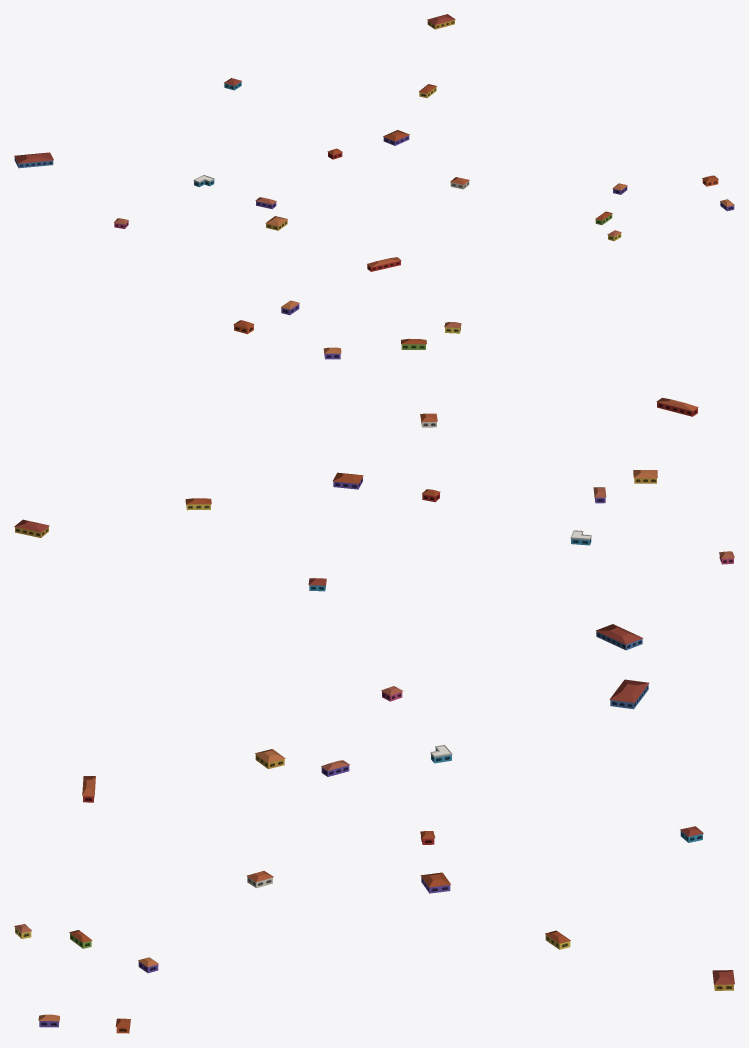
The model's file is msb_oranjestad_m10_2.glb.
The picture shows the model from 3 angles, top to bottom: view 1: azimuth 30°, elevation 25°; view 2: azimuth 150°, elevation 25°; view 3: azimuth 270°, elevation 25°; orthographic projection. The views are drawn at different scales.
Visible parts, largest first — view 1: msb_oranjestad_m10_2_lod0; view 2: msb_oranjestad_m10_2_lod0; view 3: msb_oranjestad_m10_2_lod0.
Part boxes in pixels (x1,y1,x2,y2): msb_oranjestad_m10_2_lod0: (14, 14, 734, 271); msb_oranjestad_m10_2_lod0: (14, 300, 734, 650); msb_oranjestad_m10_2_lod0: (14, 679, 734, 1033).
Size of what is drawn, in the model's own units: 389 by 14.01 by 347.
3 materials, 1 textured.
